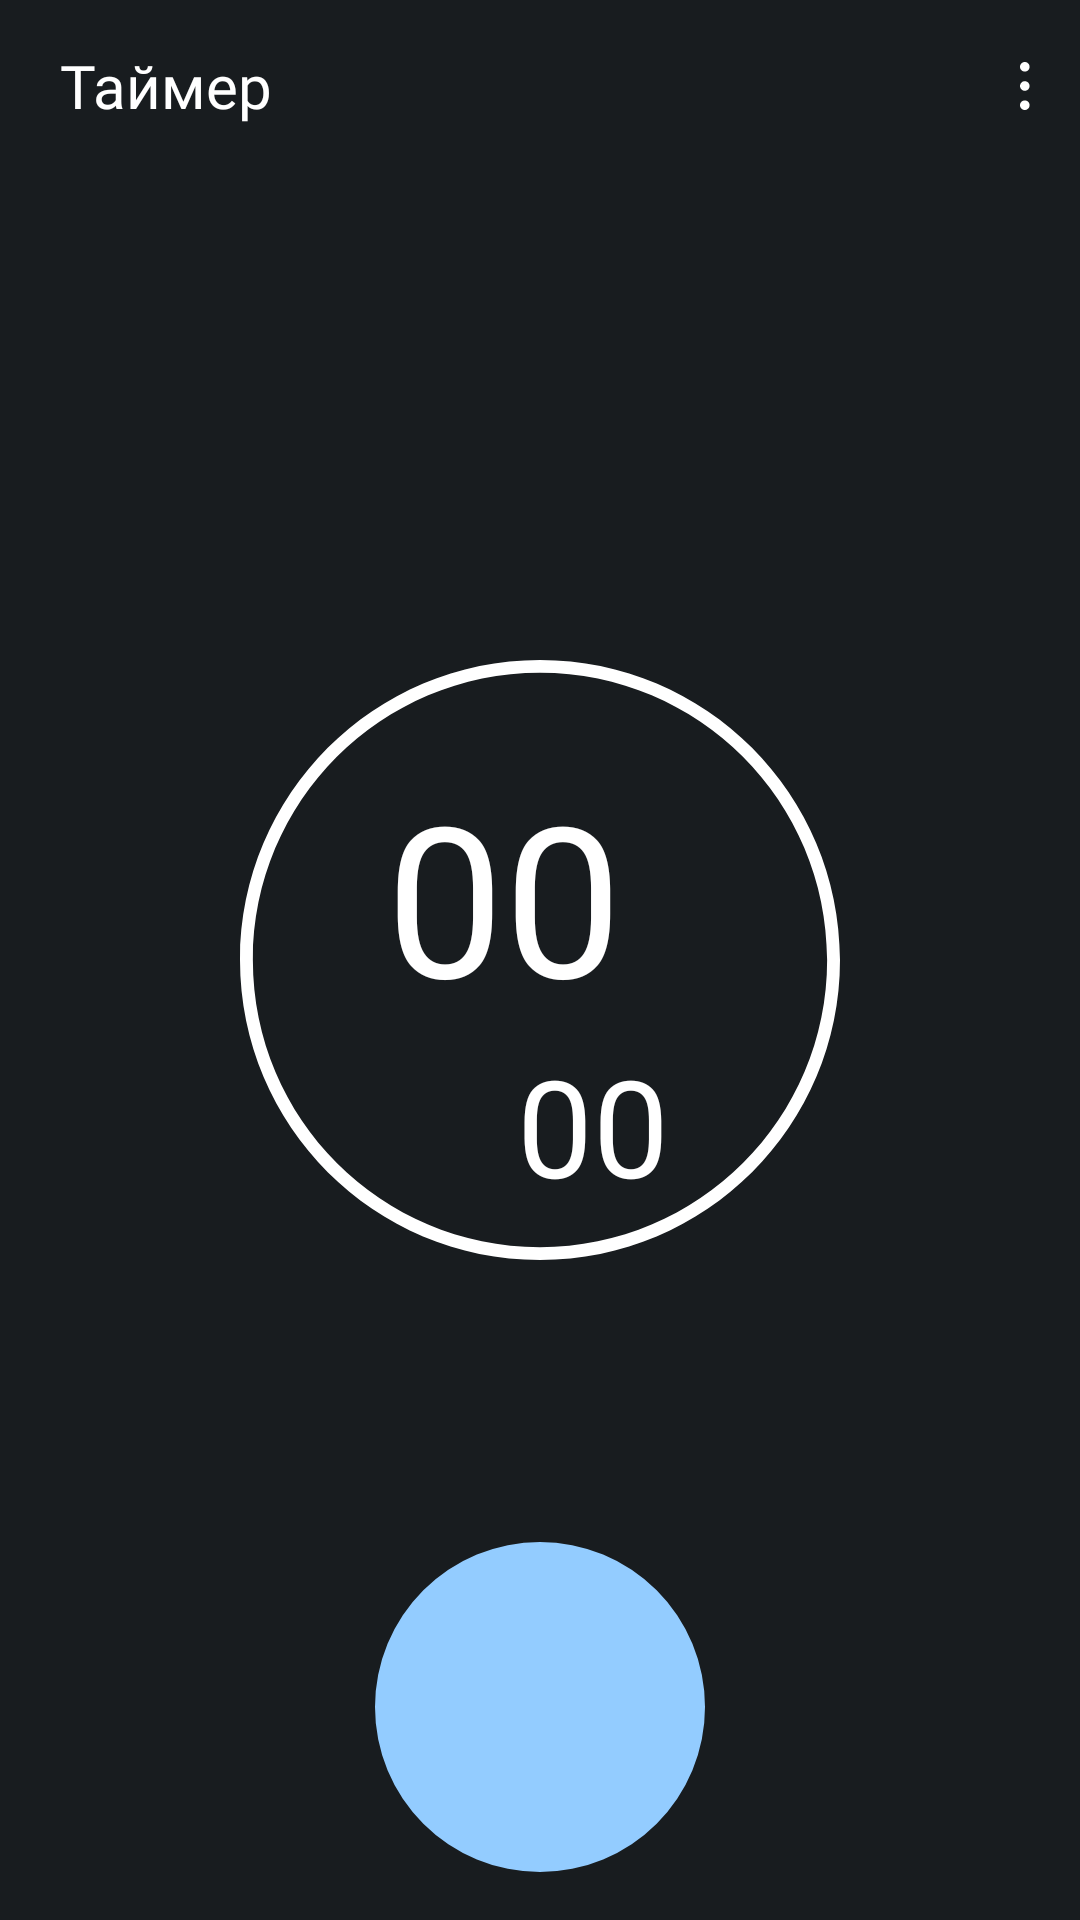

Where icons sit on this 1080px x 1920px app screen, as (x1, y1, x2, y2):
menu: (1020, 62, 1030, 110)
